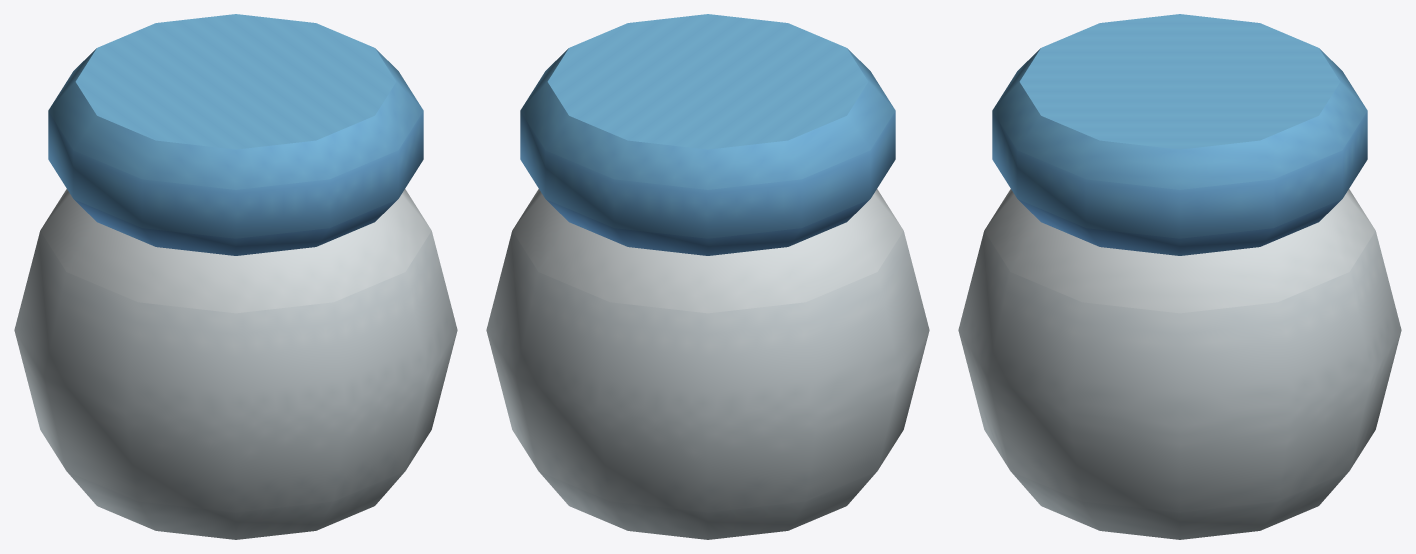
File: jar_A_small.gltf
3 renders of one model, left to right at view 1: azimuth 30°, elevation 25°; view 2: azimuth 150°, elevation 25°; view 3: azimuth 270°, elevation 25°, orthographic.
Parts seen in each view (by area): view 1: jar_A_small; view 2: jar_A_small; view 3: jar_A_small.
Part boxes in pixels (<box>): jar_A_small: <box>14,14,457,539</box>; jar_A_small: <box>486,14,929,539</box>; jar_A_small: <box>958,14,1401,539</box>.
Bounding box in the file's own units: 0.566 × 0.55 × 0.566.
Materials: 1 (1 with a texture image).
